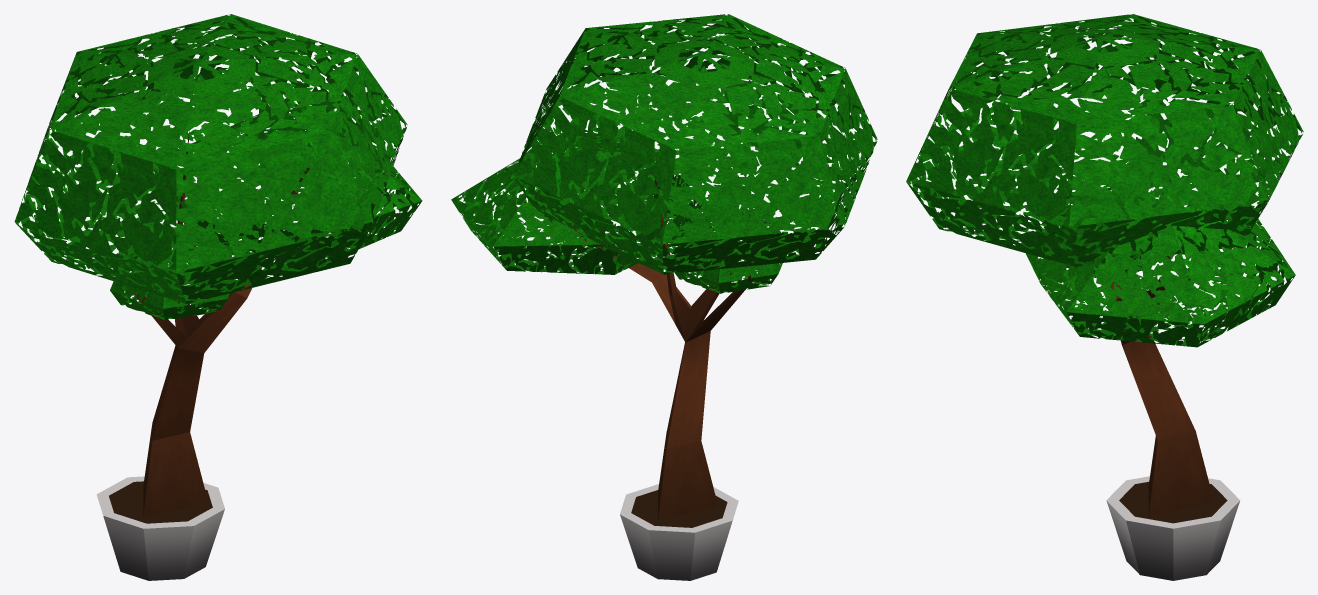
File: Plant_003.fbx
3 renders of one model, left to right at view 1: azimuth 30°, elevation 25°; view 2: azimuth 150°, elevation 25°; view 3: azimuth 270°, elevation 25°, orthographic. The views are drawn at different scales.
Visible parts, largest first — view 1: Plant_003; view 2: Plant_003; view 3: Plant_003.
Boxes of the visible parts, x1,y1,x2,y2 form: Plant_003: [14, 14, 422, 580]; Plant_003: [451, 14, 877, 580]; Plant_003: [906, 14, 1303, 580].
Size of the model in its own units: 342 by 435 by 297.
